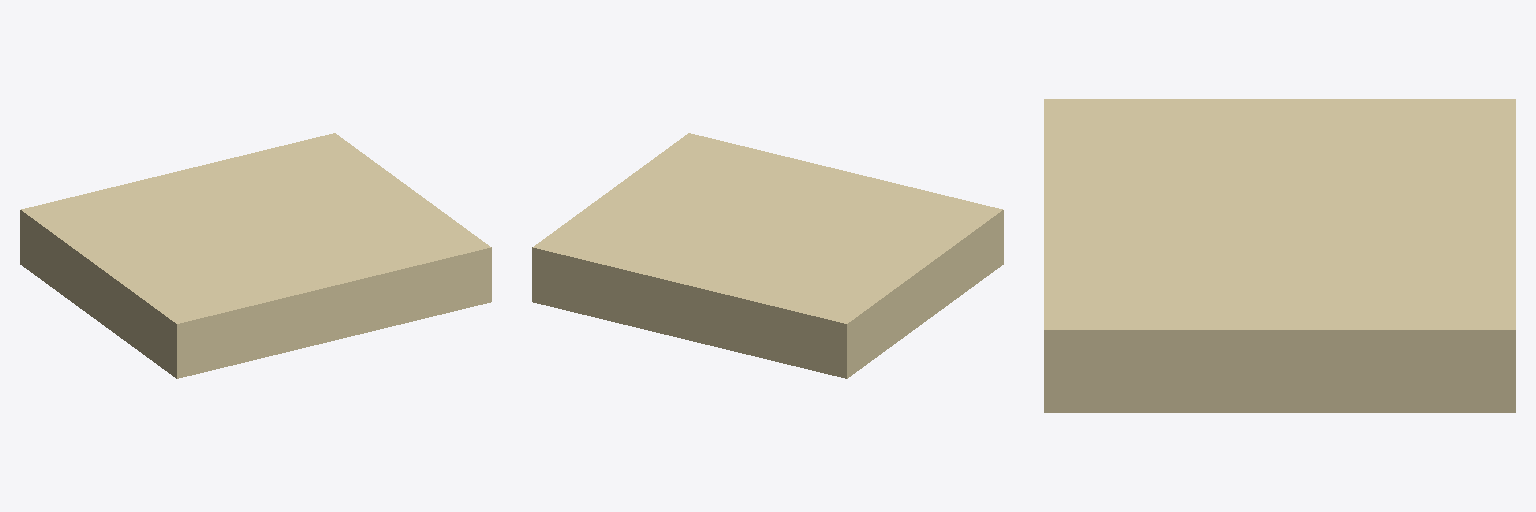
robot.urdf — box.urdf:
<?xml version="1.0" ?>
<robot name="box.urdf">
  <link name="baseLink">
    <contact>
      <lateral_friction value="1.0"/>
      <rolling_friction value="0.0001"/>
      <inertia_scaling value="3.0"/>
    </contact>
    <inertial>
      <origin rpy="0 0 0" xyz="0 0 0"/>
       <mass value="0.1"/>
       <inertia ixx="1" ixy="0" ixz="0" iyy="1" iyz="0" izz="1"/>
    </inertial>
    <visual>
      <origin rpy="0 0 0" xyz="0 0 0"/>
      <geometry>
        <!-- <box size="0.72 0.62 0.12"/> -->
        <mesh filename="box/box.obj" scale="0.72 0.62 0.12"/>
      </geometry>
      <material name="white">
        <color rgba="0.9 0.85 0.7 1"/>
      </material>
    </visual>
    <collision>
      <origin rpy="0 0 0" xyz="0 0 0"/>
      <geometry>
        <mesh filename="box/box.obj" scale="0.72 0.62 0.12"/>
	 	    <!-- <box size="0.72 0.62 0.12"/> -->
      </geometry>
    </collision>
  </link>
</robot>

--- What the picture shows (computed from the rendered views, not written in the file) ---
Views: 3 orthographic renders of the robot side by side, from view 1: azimuth 30°, elevation 25°; view 2: azimuth 150°, elevation 25°; view 3: azimuth 270°, elevation 25°.
Robot: box.urdf — 1 links, 0 joints (none); root link baseLink; default pose: all joints at 0.
Links seen in each view (by area): view 1: baseLink; view 2: baseLink; view 3: baseLink.
Boxes of the visible links, box(x1,y1,x2,y2) form: baseLink: box(20, 133, 491, 378); baseLink: box(532, 133, 1003, 378); baseLink: box(1044, 99, 1515, 412).
Size in the robot's own frame: 0.72 by 0.62 by 0.12 metres.
Meshes: 1 distinct files referenced, 1 mesh visuals loaded (1 OBJ).
